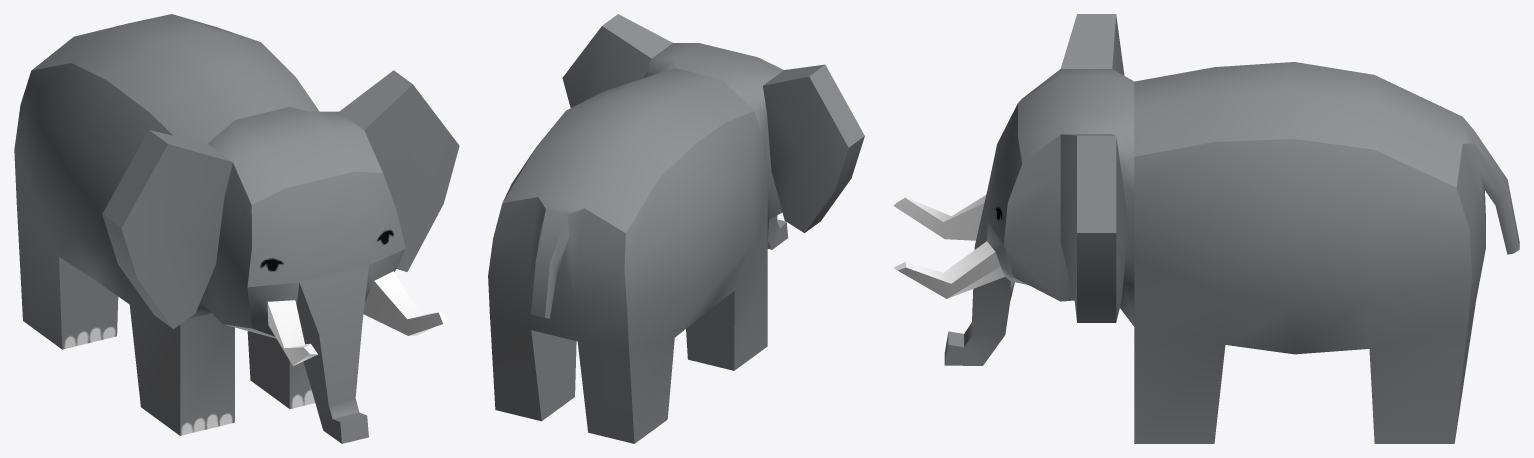
File: Elephant.fbx
The picture shows the model from 3 angles, left to right: view 1: azimuth 30°, elevation 25°; view 2: azimuth 150°, elevation 25°; view 3: azimuth 270°, elevation 25°; orthographic projection. The views are drawn at different scales.
Visible parts, largest first — view 1: pCube1; view 2: pCube1; view 3: pCube1.
Boxes of the visible parts, <box> form: pCube1: <box>14,14,459,443</box>; pCube1: <box>488,14,864,443</box>; pCube1: <box>893,14,1519,443</box>.
Bounding box in the file's own units: 1.9 × 1.74 × 3.
1 material, 1 textured.
